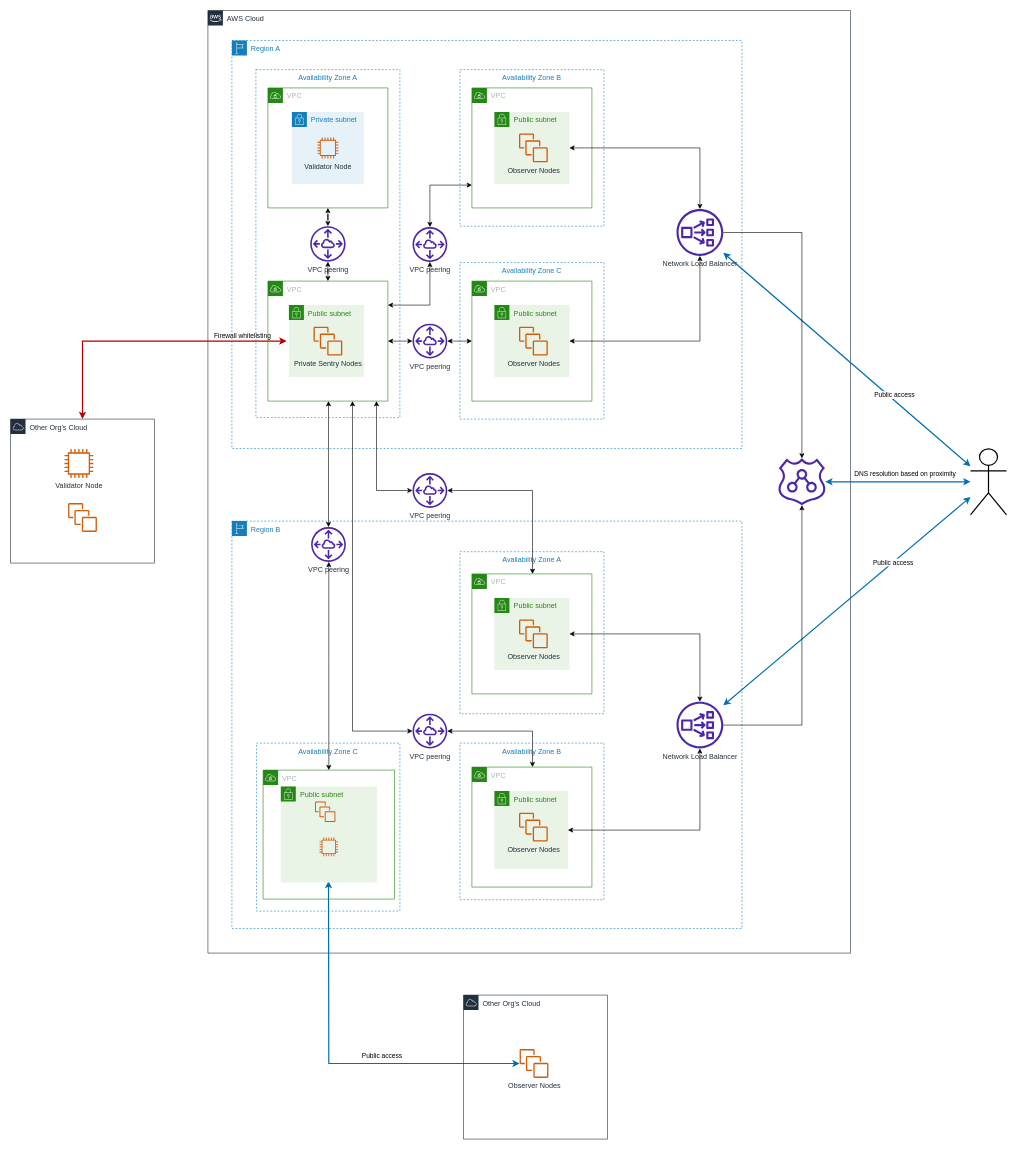
Image size: 1031x1150. Some labels were removed from this diagram. The centre of each missing label's shape, as x and y in pixels:
"gRPC / REST / RPC Client" belongs at (x=988, y=481).
"Public Sentry Nodes" belongs at (x=325, y=811).
"Route 53" belongs at (x=801, y=481).
"Seed Node" belongs at (x=328, y=846).
"Sentry Nodes (optional)" belongs at (x=82, y=517).
